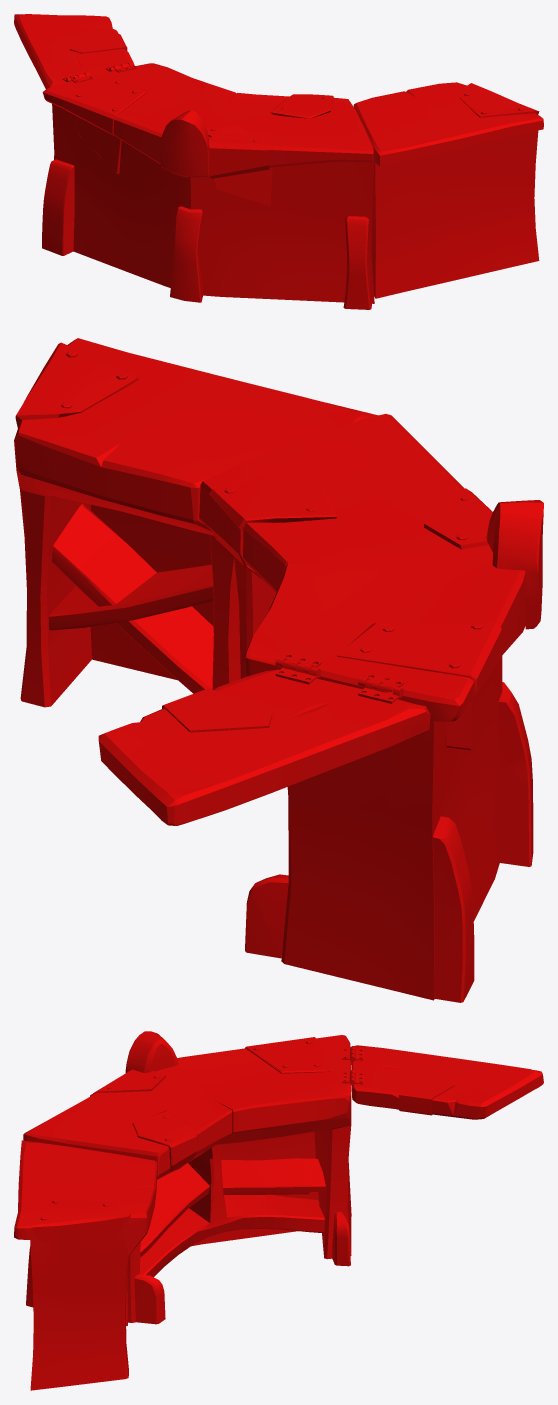
The model's file is Table.fbx.
The picture shows the model from 3 angles, top to bottom: view 1: azimuth 30°, elevation 25°; view 2: azimuth 150°, elevation 25°; view 3: azimuth 270°, elevation 25°; orthographic projection. The views are drawn at different scales.
Parts seen in each view (by area): view 1: roundtabletable1, tableroundtable, roundtabletable6; view 2: roundtabletable1, tableroundtable, roundtabletable6; view 3: roundtabletable1, tableroundtable, roundtabletable6.
Boxes of the visible parts, bbox=[...] form: roundtabletable1: bbox=[42, 63, 374, 309]; tableroundtable: bbox=[353, 82, 543, 298]; roundtabletable6: bbox=[14, 14, 136, 89]; roundtabletable1: bbox=[199, 414, 543, 1002]; tableroundtable: bbox=[14, 338, 377, 707]; roundtabletable6: bbox=[98, 653, 430, 825]; roundtabletable1: bbox=[23, 1031, 351, 1324]; tableroundtable: bbox=[14, 1140, 156, 1390]; roundtabletable6: bbox=[341, 1045, 543, 1119].
Size of the model in its own units: 1.58 by 0.7834 by 1.86.
